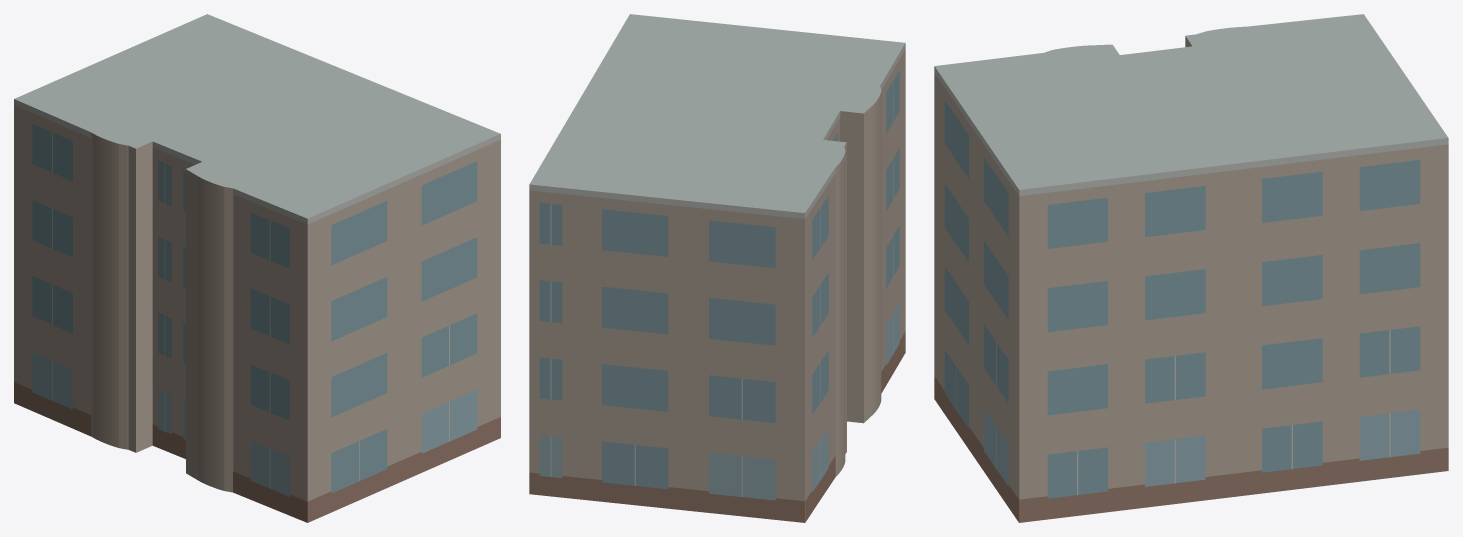
File: survey-upis-32852280.glb
3 views of the same model, side by side, from view 1: azimuth 30°, elevation 25°; view 2: azimuth 150°, elevation 25°; view 3: azimuth 270°, elevation 25° (orthographic). The views are drawn at different scales.
Parts seen in each view (by area): view 1: survey-upis-32852280.tmp; view 2: survey-upis-32852280.tmp; view 3: survey-upis-32852280.tmp.
Boxes of the visible parts, bbox=[...] form: survey-upis-32852280.tmp: bbox=[14, 14, 500, 522]; survey-upis-32852280.tmp: bbox=[529, 14, 905, 522]; survey-upis-32852280.tmp: bbox=[934, 14, 1448, 522].
Bounding box in the file's own units: 14.4 × 12.7 × 17.79.
